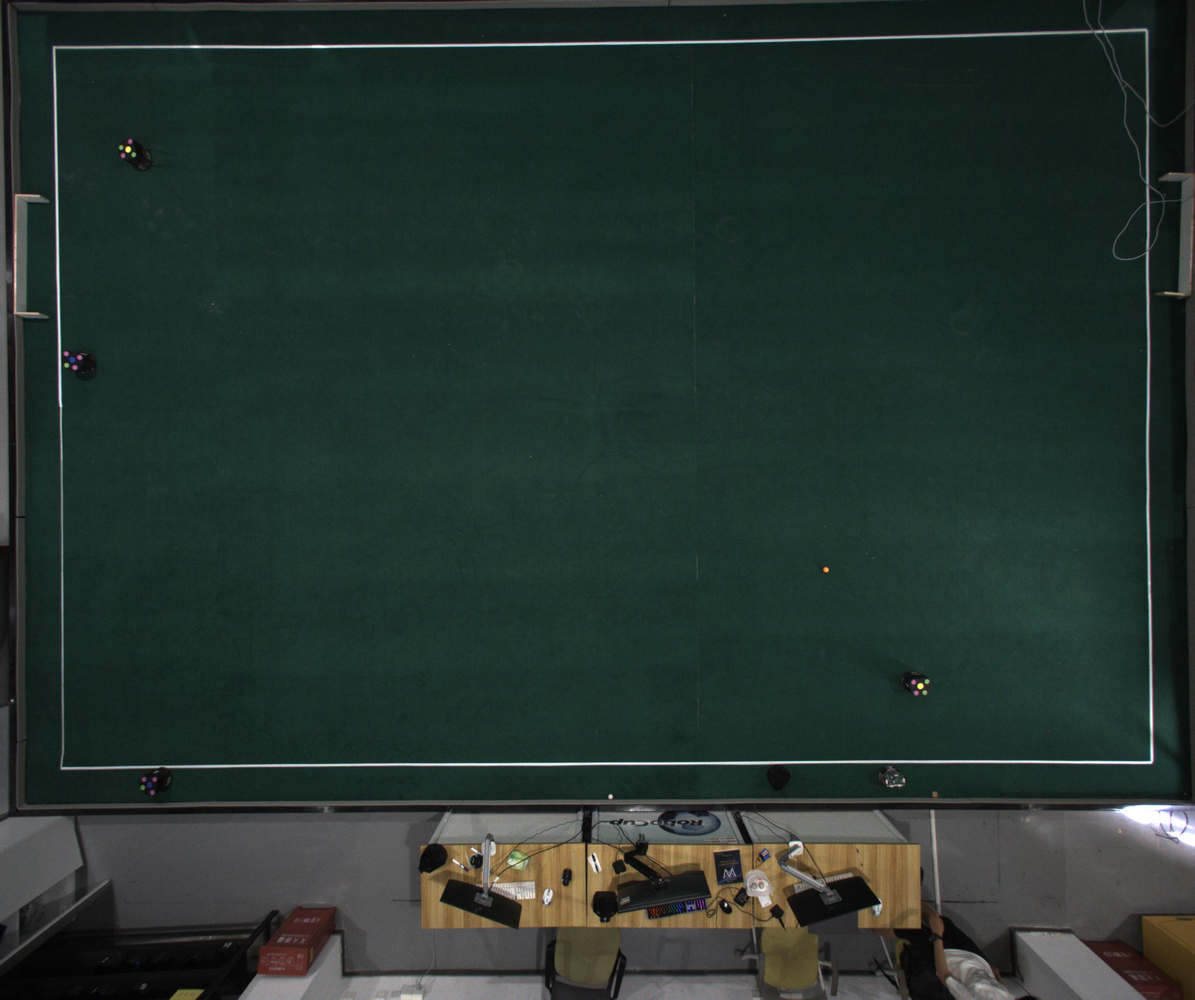ball: (823, 566, 829, 573)
blue_bot: (62, 350, 84, 372), (140, 775, 160, 797)
yellow_bot: (118, 139, 138, 161), (910, 678, 932, 697)
